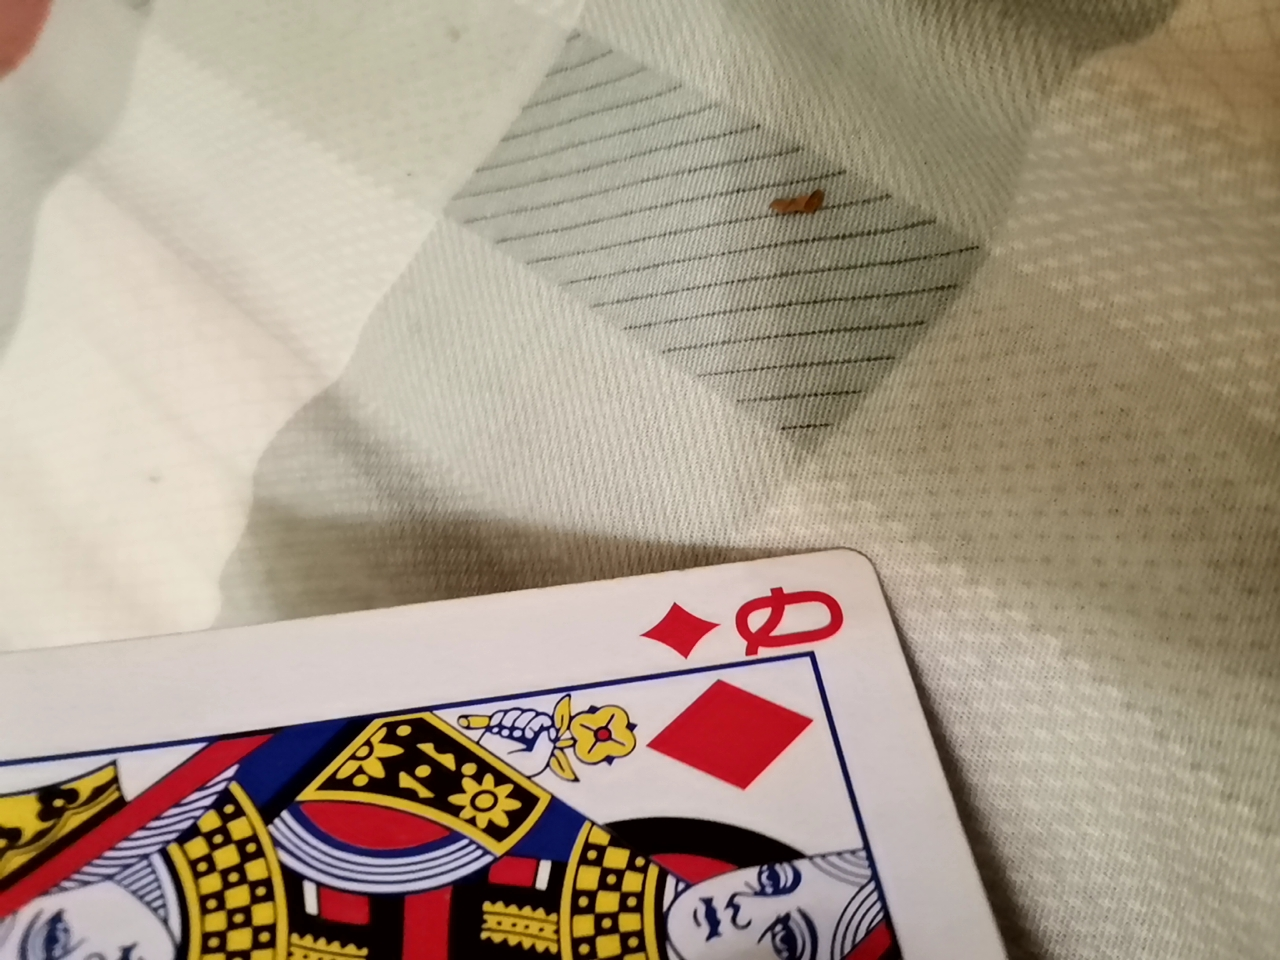fk q: (5, 547, 1033, 956)
